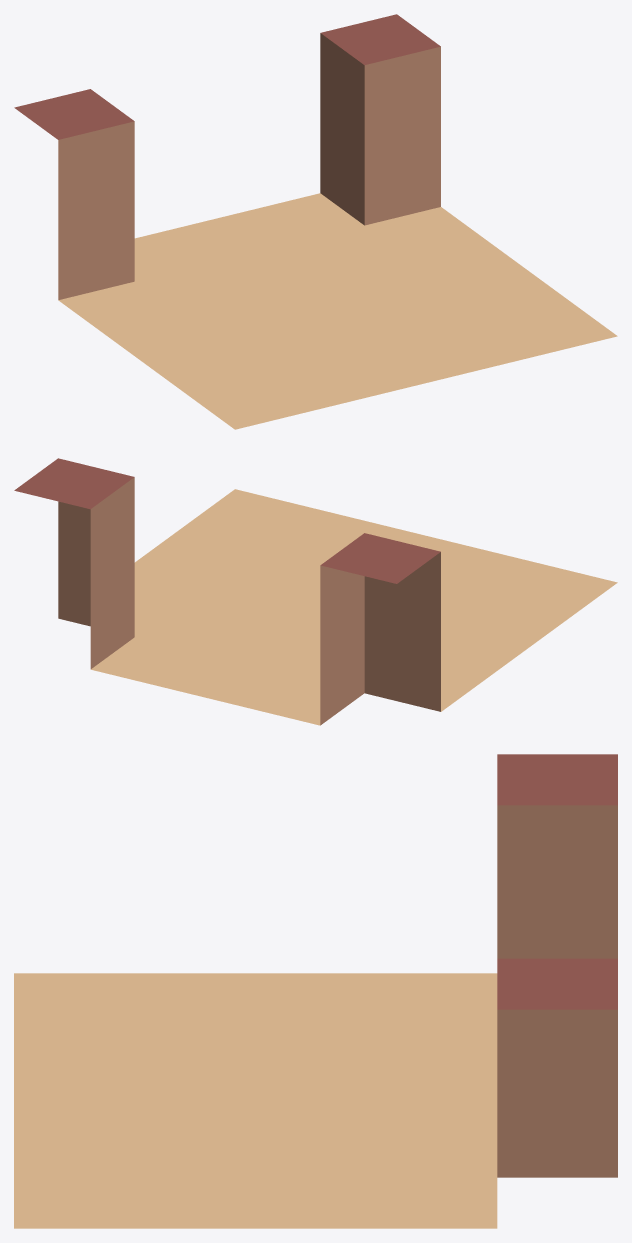
File: SM_Tile_Tips_Straight.fbx
3 renders of one model, top to bottom at view 1: azimuth 30°, elevation 25°; view 2: azimuth 150°, elevation 25°; view 3: azimuth 270°, elevation 25°, orthographic. The views are drawn at different scales.
Visible parts, largest first — view 1: SM_Tile_Tips_Straight; view 2: SM_Tile_Tips_Straight; view 3: SM_Tile_Tips_Straight.
Part boxes in pixels (x1,y1,x2,y2): SM_Tile_Tips_Straight: [14, 14, 617, 429]; SM_Tile_Tips_Straight: [14, 458, 617, 725]; SM_Tile_Tips_Straight: [14, 754, 617, 1228].
Bounding box in the file's own units: 500 × 200 × 500.
